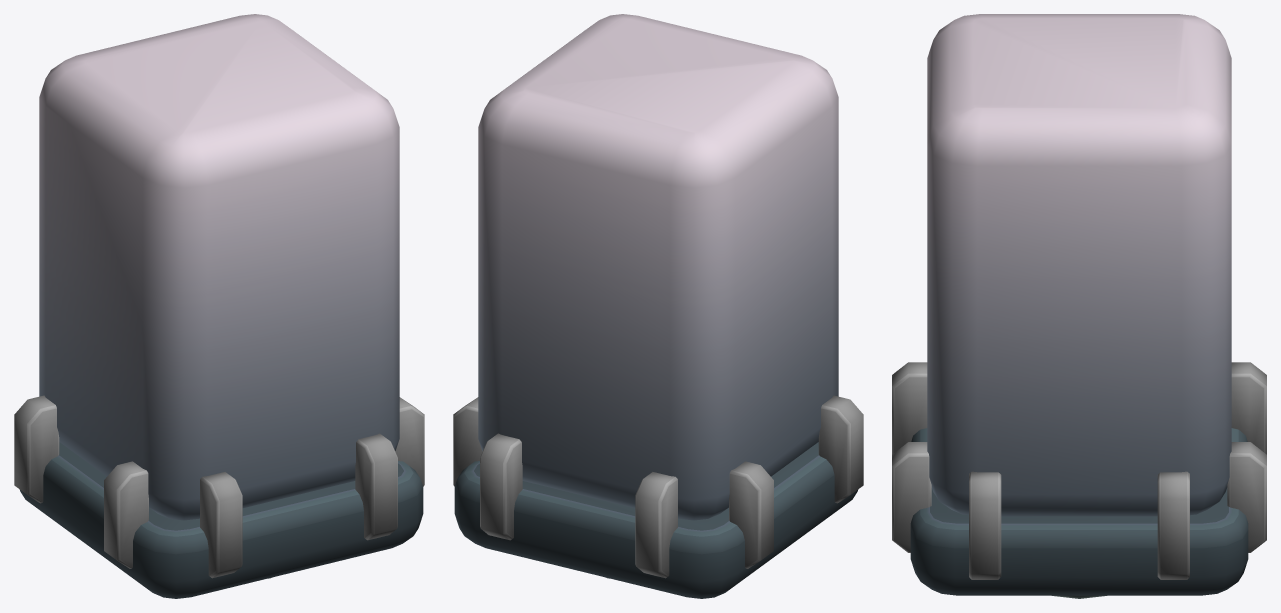
File: sp_food_grower_can_broccoli.fbx
3 renders of one model, left to right at view 1: azimuth 30°, elevation 25°; view 2: azimuth 150°, elevation 25°; view 3: azimuth 270°, elevation 25°, orthographic. The views are drawn at different scales.
Visible parts, largest first — view 1: food_canister_broccoli; view 2: food_canister_broccoli; view 3: food_canister_broccoli.
Part boxes in pixels (x1,y1,x2,y2): food_canister_broccoli: [14, 14, 424, 598]; food_canister_broccoli: [453, 14, 863, 598]; food_canister_broccoli: [892, 14, 1266, 598].
Bounding box in the file's own units: 52.23 × 78.42 × 52.23.
